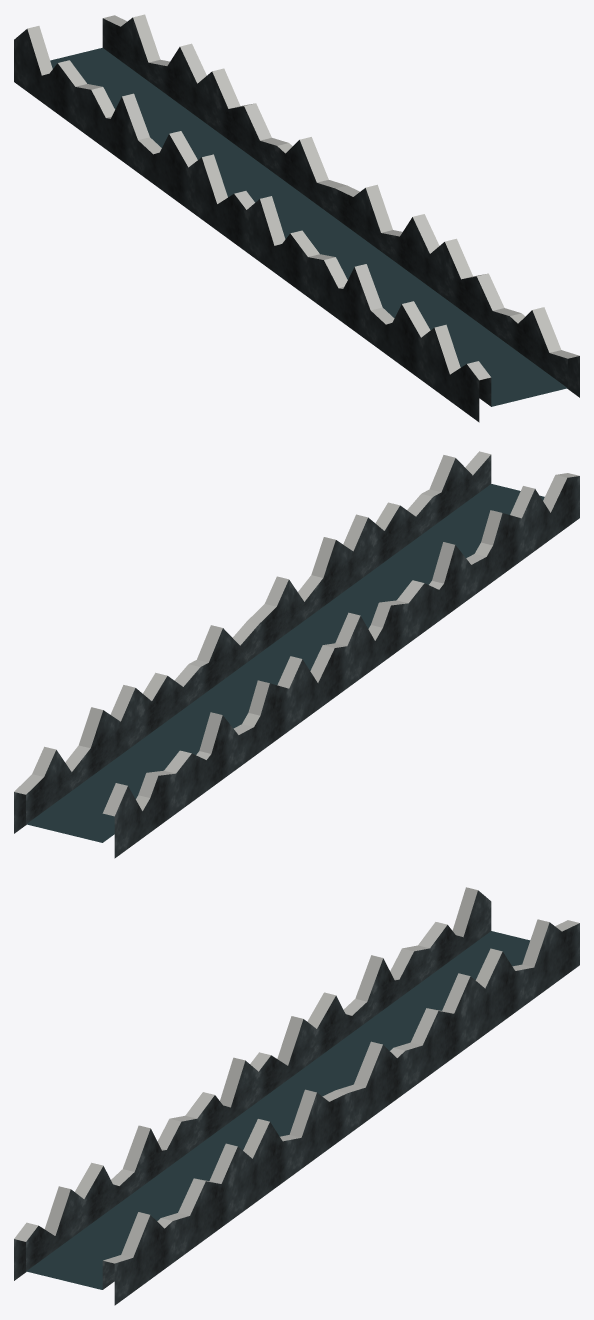
Rendered from OT_046_broken_wall_deco_var3.glb.
3 views of the same model, one above another, from view 1: azimuth 30°, elevation 25°; view 2: azimuth 150°, elevation 25°; view 3: azimuth 330°, elevation 25° (orthographic).
Parts seen in each view (by area): view 1: broken_wall, broken_wall.001, broken_wall.003, broken_wall.002; view 2: broken_wall, broken_wall.001, broken_wall.002, broken_wall.003; view 3: broken_wall, broken_wall.001, broken_wall.003, broken_wall.002.
Part boxes in pixels (x1,y1,x2,y2): broken_wall: (14, 14, 288, 209); broken_wall.001: (246, 184, 520, 379); broken_wall.003: (421, 307, 579, 422); broken_wall.002: (188, 137, 346, 251); broken_wall: (14, 664, 289, 858); broken_wall.001: (247, 494, 521, 687); broken_wall.002: (189, 621, 347, 730); broken_wall.003: (421, 451, 579, 560); broken_wall: (307, 887, 579, 1092); broken_wall.001: (75, 1057, 347, 1262); broken_wall.003: (14, 1186, 172, 1305); broken_wall.002: (250, 1016, 405, 1134).
Bounding box in the file's own units: 0.75 × 0.5008 × 6.
6 materials, 2 textured.
